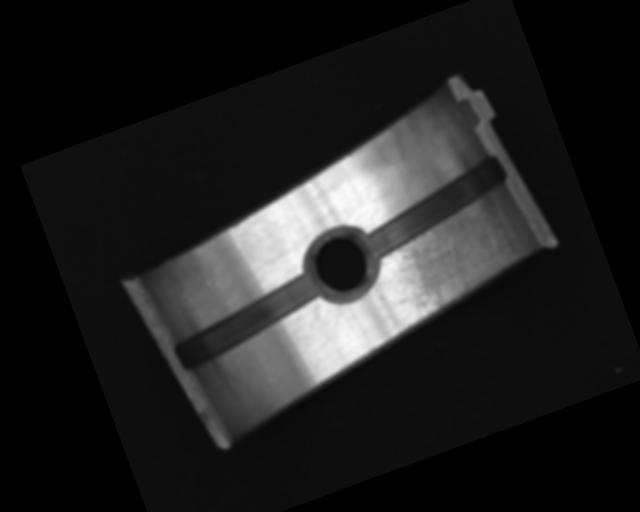gap: (352, 151, 521, 262), (163, 273, 325, 373)
hole: (299, 221, 386, 304)
scratch: (373, 184, 544, 325)
